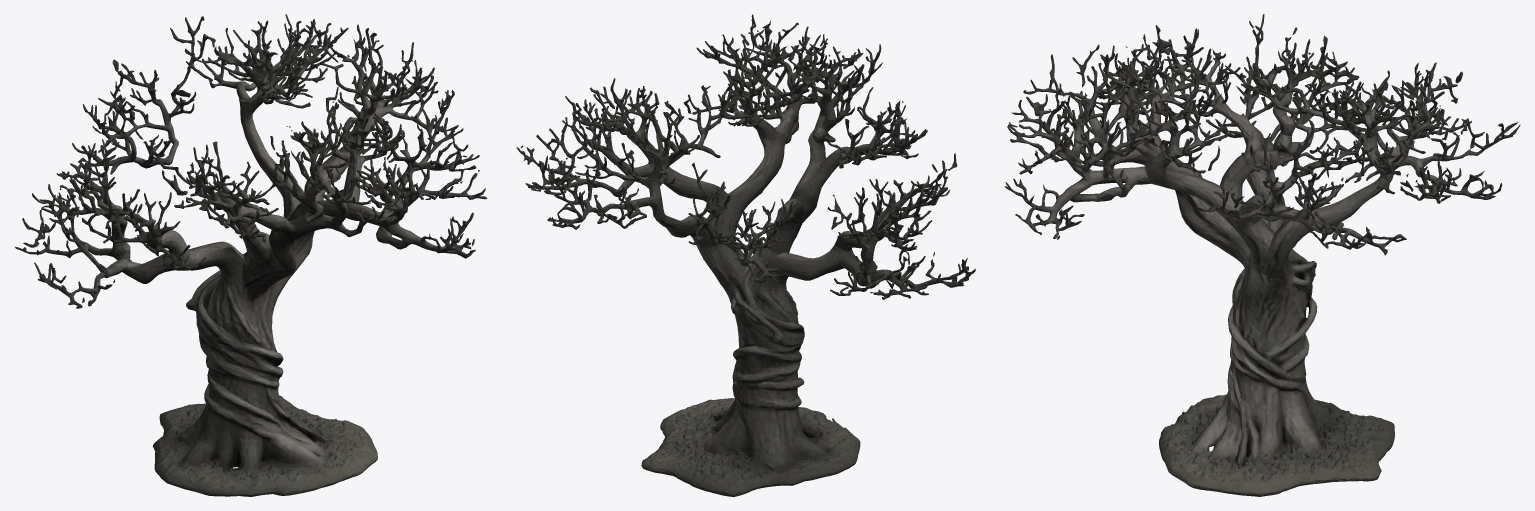
Rendered from char_dead_tree_03.glb.
3 views of the same model, side by side, from view 1: azimuth 30°, elevation 25°; view 2: azimuth 150°, elevation 25°; view 3: azimuth 270°, elevation 25° (orthographic). The views are drawn at different scales.
Parts seen in each view (by area): view 1: geometry_0; view 2: geometry_0; view 3: geometry_0.
Boxes of the visible parts, <box> form: geometry_0: <box>15,14,487,496</box>; geometry_0: <box>516,14,975,496</box>; geometry_0: <box>1005,14,1520,496</box>.
Size of the model in its own units: 1 by 0.8578 by 0.9936.
Materials: 1 (1 with a texture image).
